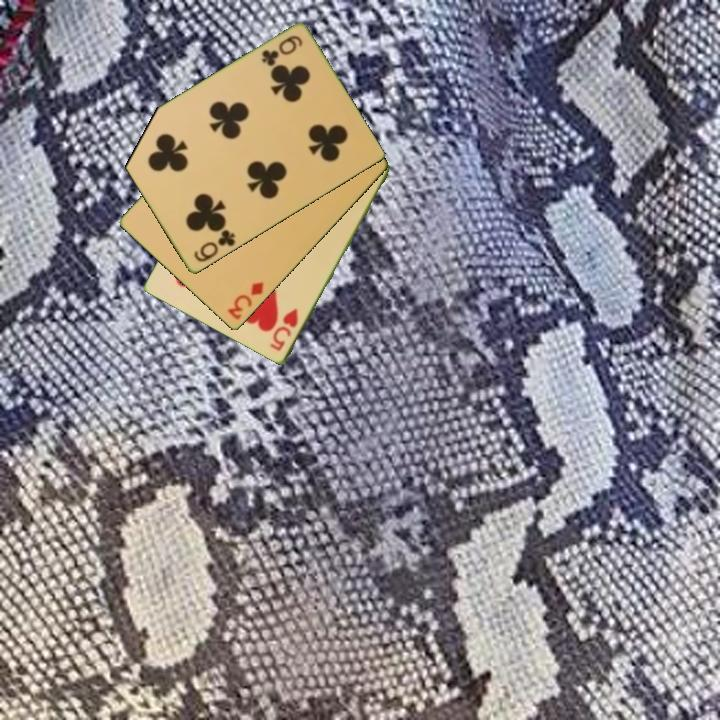3d: (224, 278, 267, 323)
5h: (266, 305, 301, 355)
6c: (190, 226, 238, 265), (258, 32, 306, 69)
